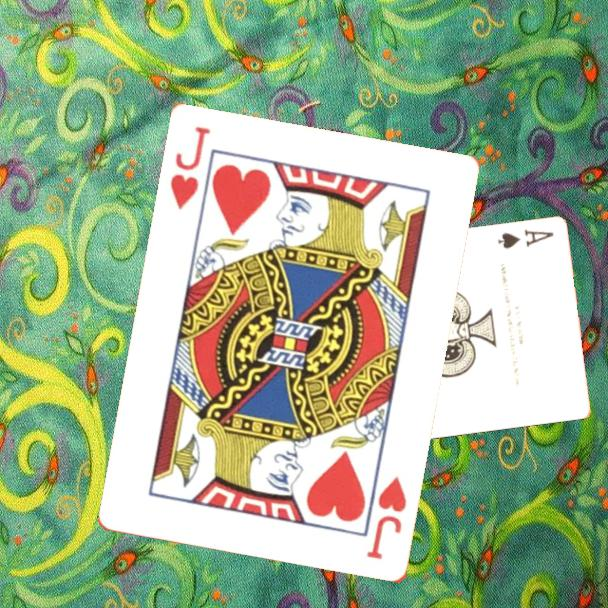h11: (363, 473, 410, 563), (167, 123, 214, 213)
s01: (494, 226, 556, 252)
